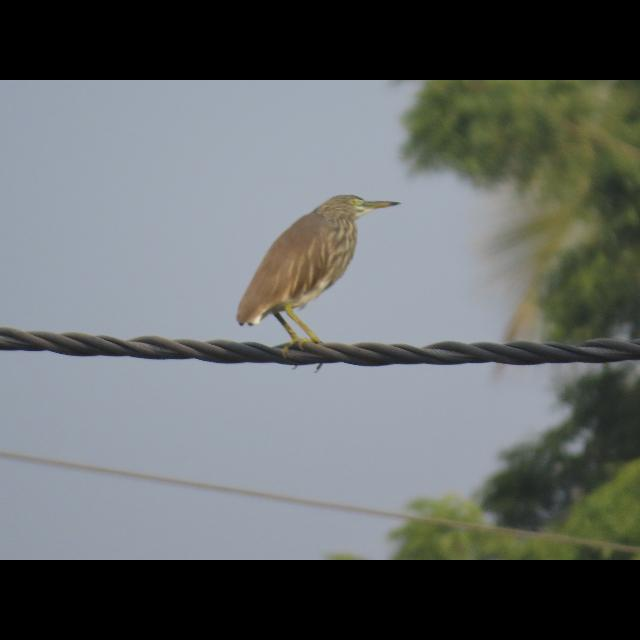heron: (235, 188, 403, 344)
